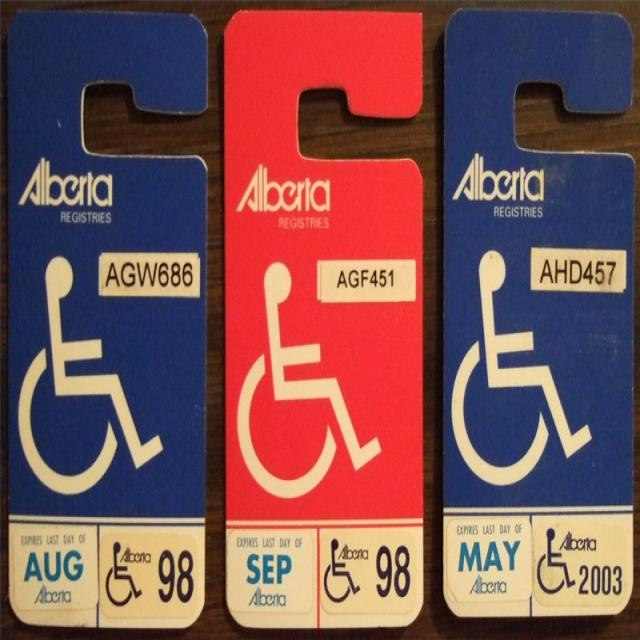symbol_of_access: (10, 246, 166, 512), (229, 264, 387, 501), (449, 242, 598, 490), (105, 539, 146, 612), (537, 525, 578, 596), (324, 532, 362, 606)
